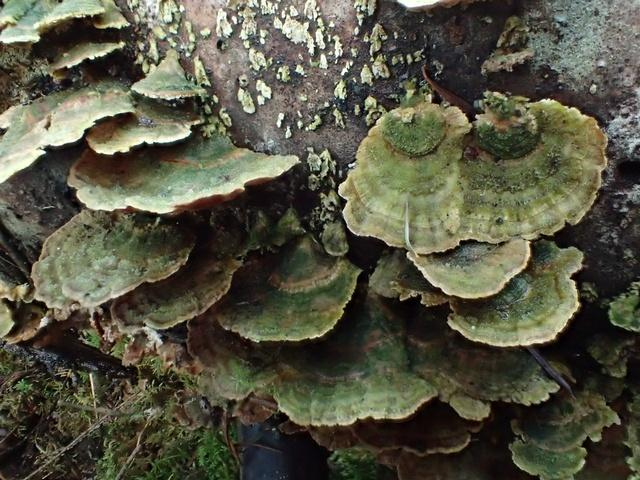Non-edible Mushroom: (6, 0, 637, 478)
